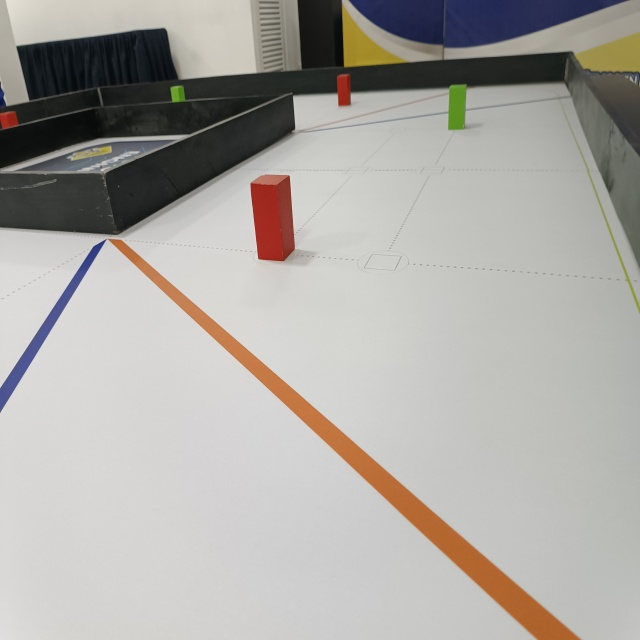blue line: (0, 236, 107, 416), (285, 93, 581, 134)
green rectangular prism: (444, 82, 471, 136), (164, 83, 193, 106)
orange line: (108, 239, 585, 640), (285, 90, 444, 136)
red rectangular prism: (244, 172, 301, 266), (335, 73, 353, 109), (1, 103, 17, 132)
